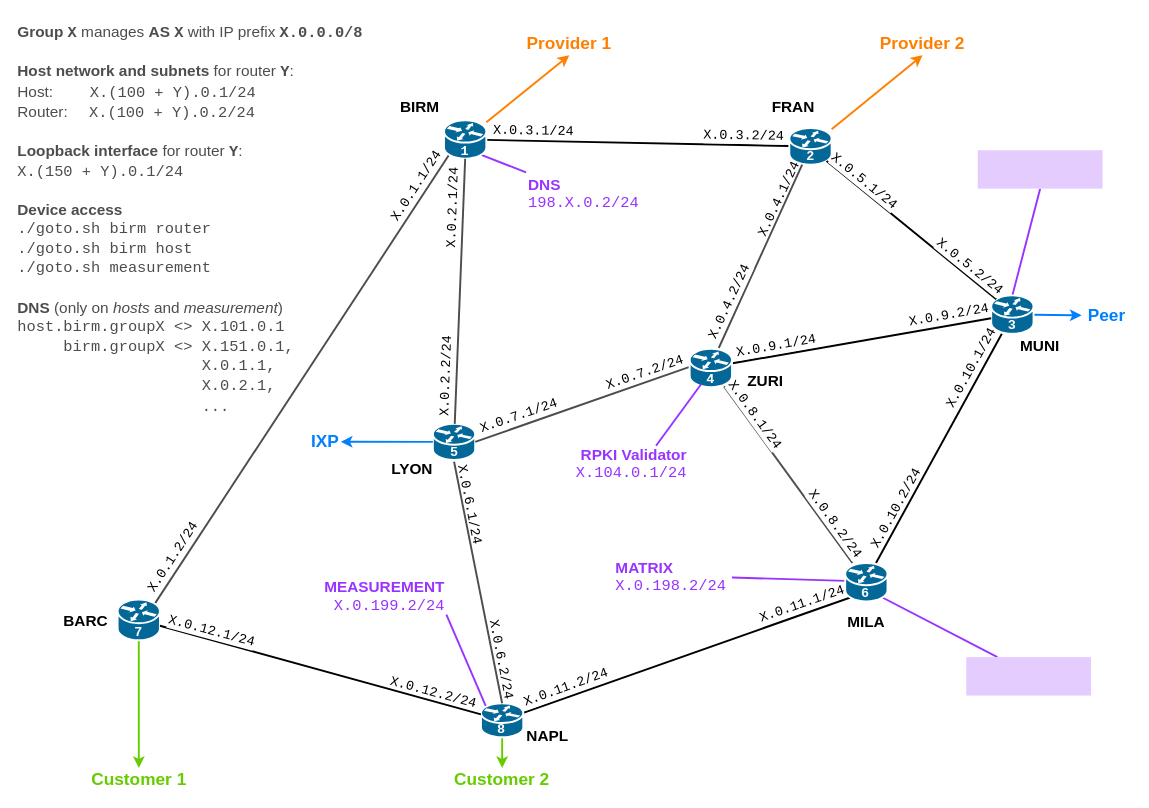
This 1149x808 diagram has some shape labels left out. Each missing label, with the centre of its shape:
"DC North (DCN)" goes at (x=1039, y=169).
"DC South (DCS)" goes at (x=1028, y=676).
